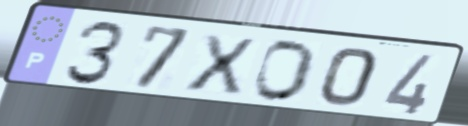0: (315, 45, 382, 109)
3: (63, 18, 127, 87)
4: (379, 51, 436, 116)
7: (134, 23, 194, 92)
O: (251, 38, 321, 104)
X: (182, 32, 260, 97)
